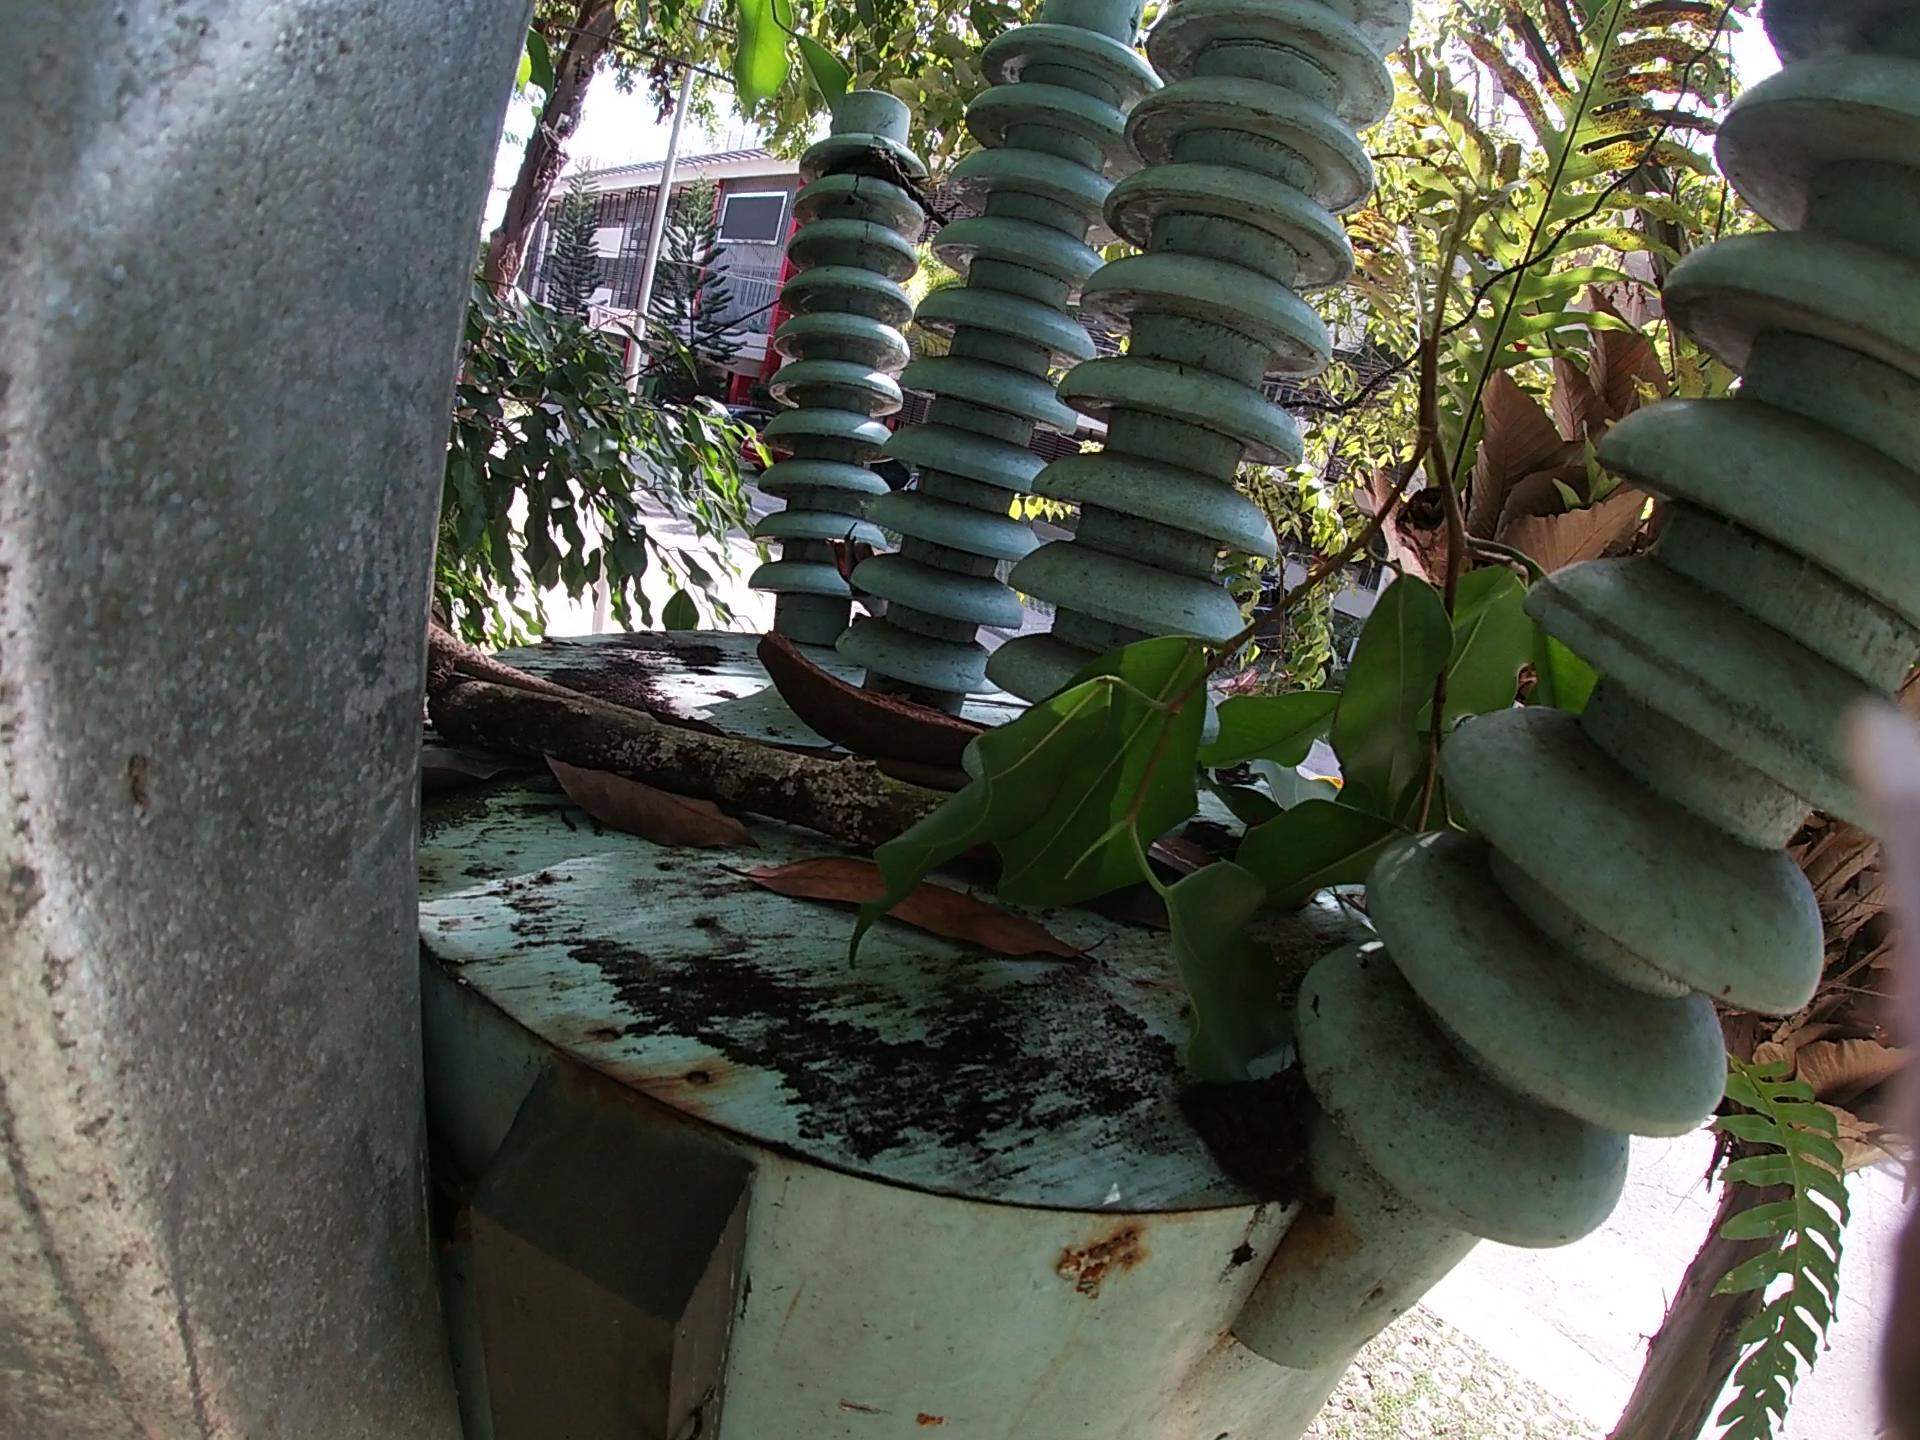branch with leaves: (872, 154, 1595, 1145)
leaf: (717, 849, 1093, 985), (540, 765, 788, 853), (429, 746, 490, 803)
mahogany fruit: (754, 617, 972, 784)
tree branch: (435, 672, 922, 864), (426, 619, 674, 706)
